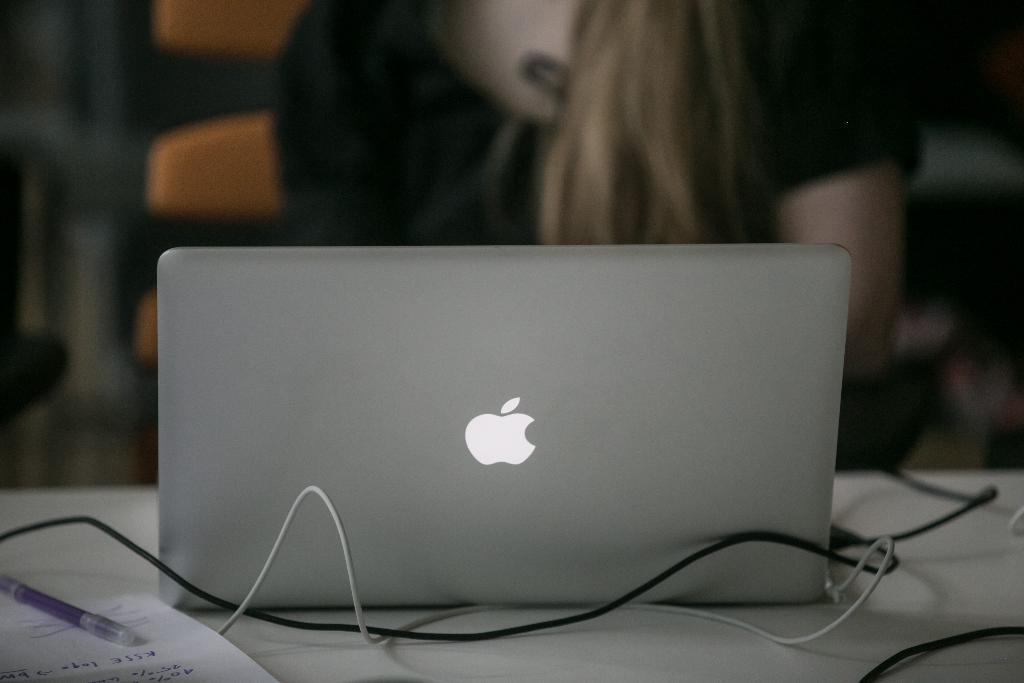Laptop: (160, 242, 859, 627)
